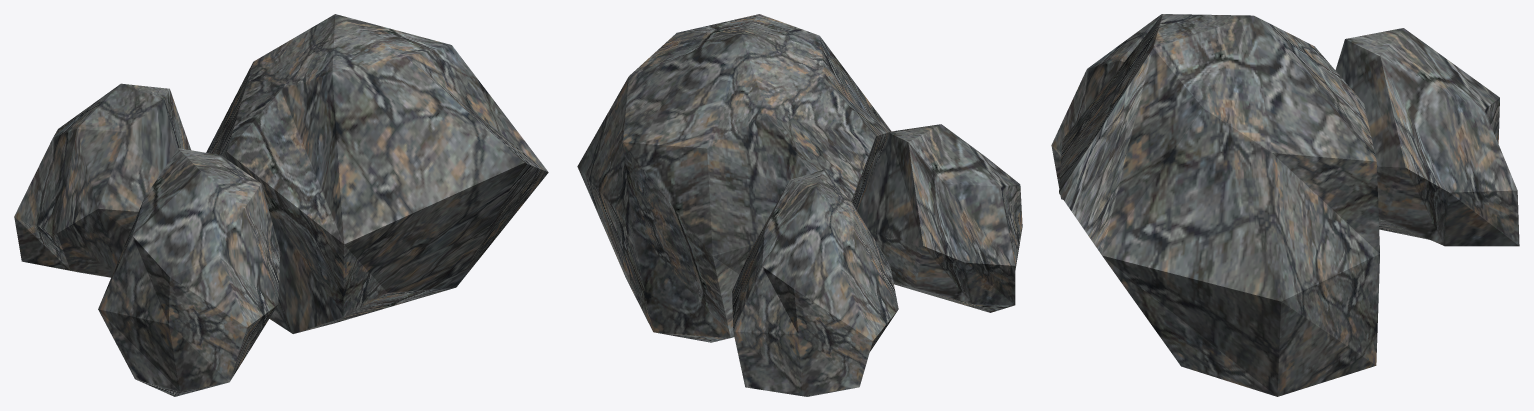
Rendered from C1SNLARGEROCKAH.obj.
3 renders of one model, left to right at view 1: azimuth 30°, elevation 25°; view 2: azimuth 150°, elevation 25°; view 3: azimuth 270°, elevation 25°, orthographic. The views are drawn at different scales.
Parts seen in each view (by area): view 1: Node 0; view 2: Node 0; view 3: Node 0.
Part boxes in pixels (x1,y1,x2,y2): Node 0: [14, 14, 548, 396]; Node 0: [577, 14, 1022, 396]; Node 0: [1051, 14, 1519, 396].
Size of the model in its own units: 17.82 by 12.79 by 14.91.
1 material, 1 textured.
